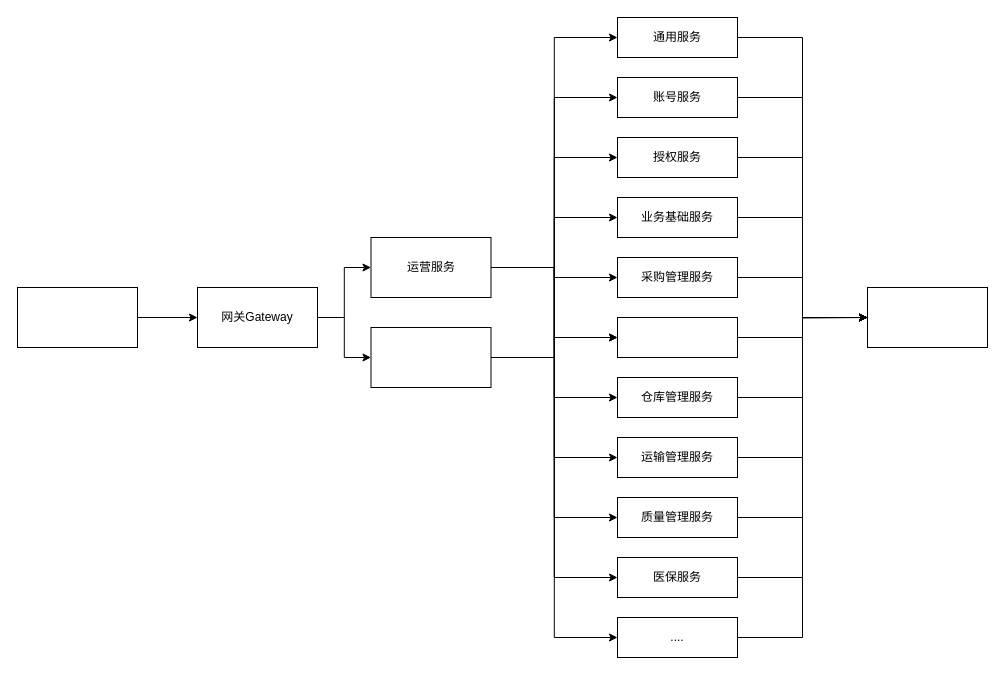
This 1005x675 diagram has some shape labels left out. Each missing label, with the centre of its shape:
"Mysql" belongs at point 927,317.
"Web" belongs at point 77,317.
"终端服务" belongs at point 430,357.
"订单管理服务" belongs at point 677,337.
